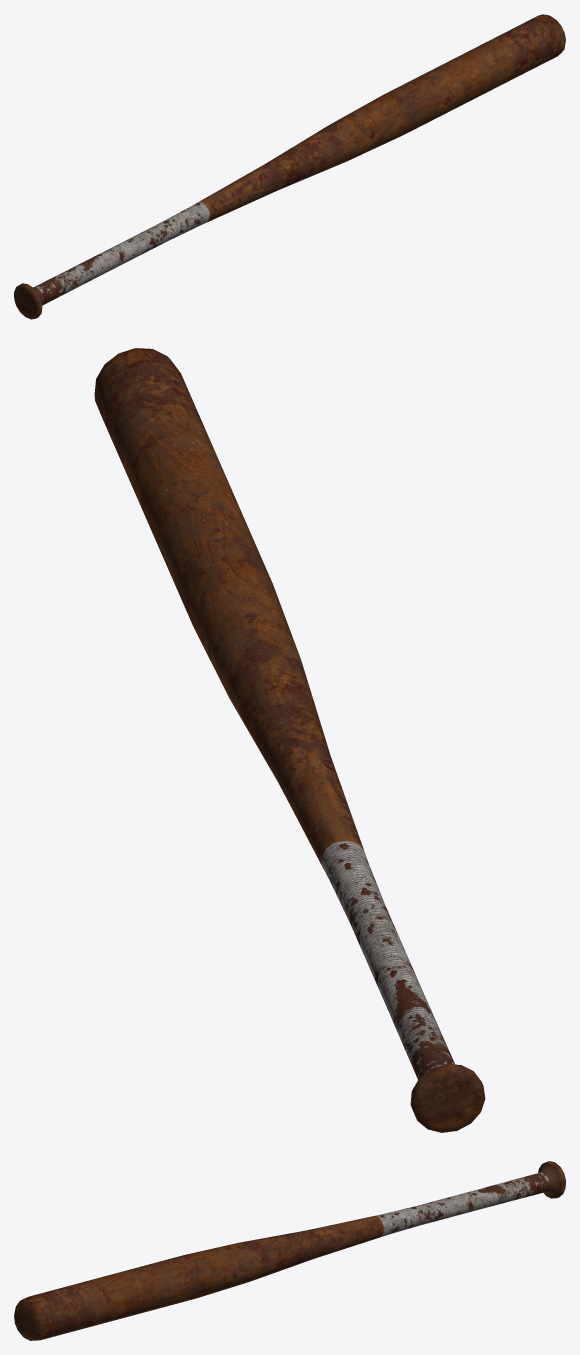
The model's file is Anim_idle_bate_objetos.0032.obj.
The picture shows the model from 3 angles, top to bottom: view 1: azimuth 90°, elevation 25°; view 2: azimuth 150°, elevation 25°; view 3: azimuth 270°, elevation 25°; orthographic projection. The views are drawn at different scales.
Parts seen in each view (by area): view 1: Bate1; view 2: Bate1; view 3: Bate1.
Part boxes in pixels (box(x1,y1,x2,y2)): Bate1: box(14, 14, 565, 319); Bate1: box(94, 348, 485, 1132); Bate1: box(14, 1161, 565, 1340).
Bounding box in the file's own units: 3.79 × 0.8189 × 4.08.
